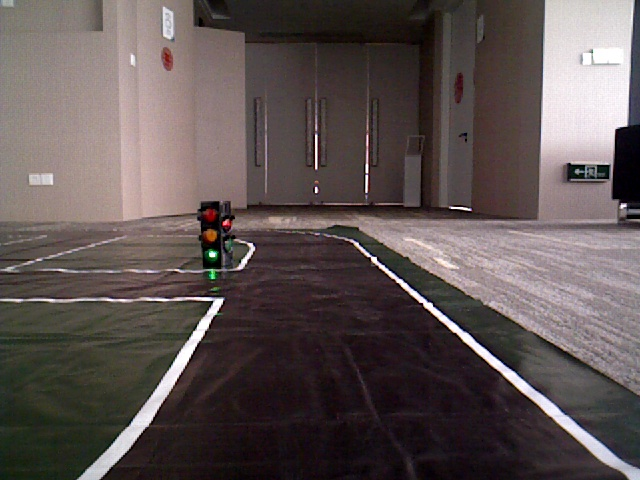green: (200, 206, 223, 264)
